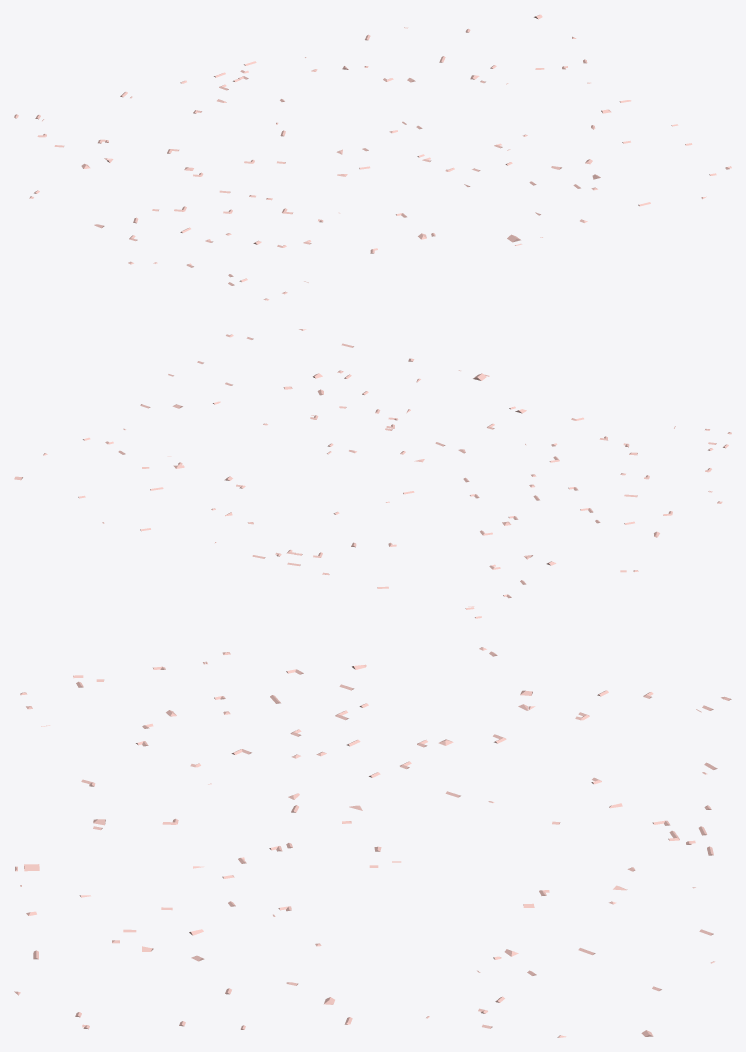
File: FaitageArdoise_3.obj
3 renders of one model, top to bottom at view 1: azimuth 30°, elevation 25°; view 2: azimuth 150°, elevation 25°; view 3: azimuth 270°, elevation 25°, orthographic. The views are drawn at different scales.
Visible parts, largest first — view 1: FaitageArdoise_3; view 2: FaitageArdoise_3; view 3: FaitageArdoise_3.
Part boxes in pixels (x1=…): FaitageArdoise_3: x1=14, y1=14, x2=731, y2=300; FaitageArdoise_3: x1=14, y1=329, x2=731, y2=618; FaitageArdoise_3: x1=14, y1=647, x2=731, y2=1037.
Size of the model in its own units: 2470 by 74.96 by 1919.
